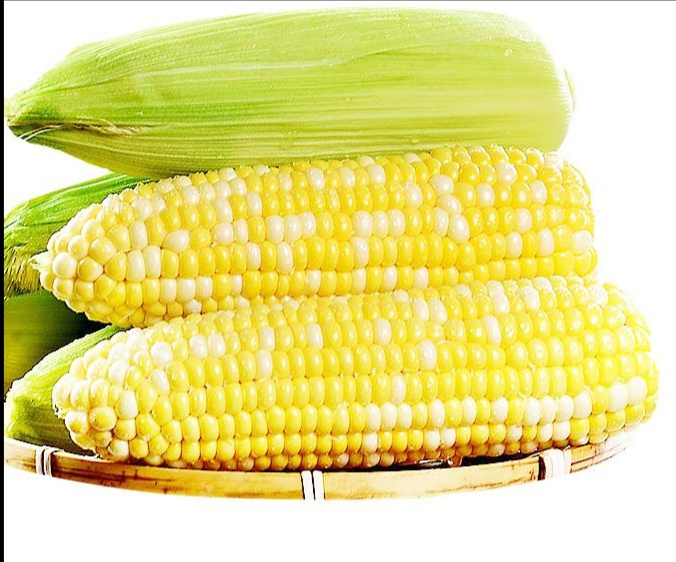corn: (37, 145, 596, 327), (75, 291, 653, 453)
corn_plant: (6, 9, 585, 154)
